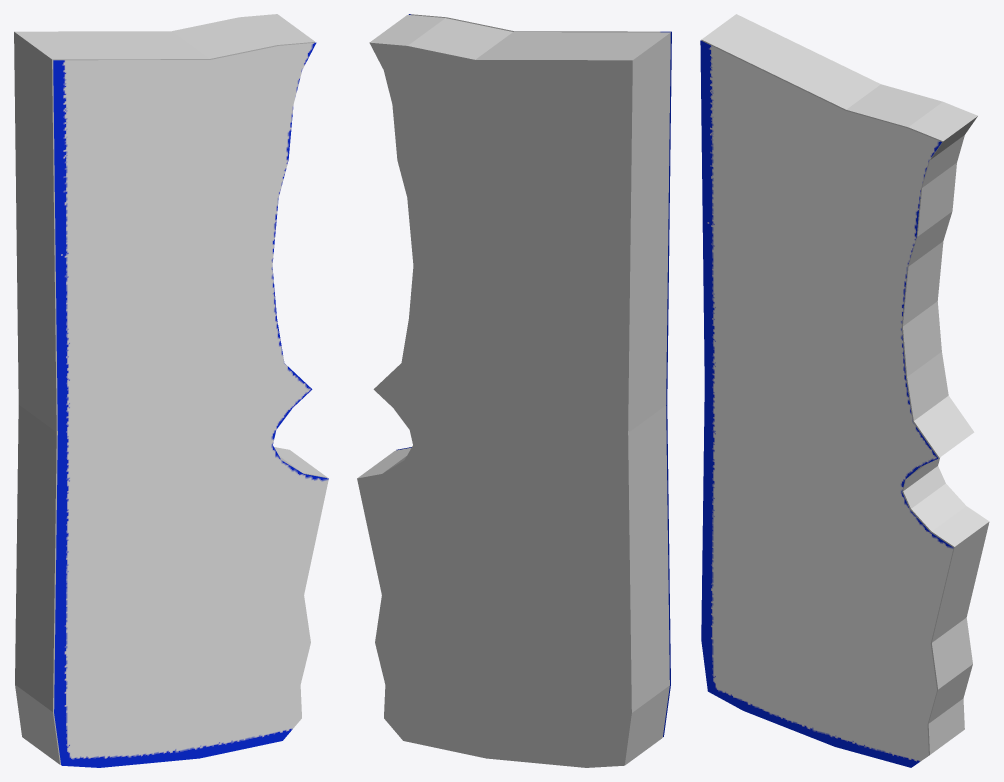
3 views of the same model, side by side, from view 1: azimuth 30°, elevation 25°; view 2: azimuth 150°, elevation 25°; view 3: azimuth 330°, elevation 25° (orthographic). The views are drawn at different scales.
Parts seen in each view (by area): view 1: Out_2_1, Out_2_0; view 2: Out_2_0, Out_2_1; view 3: Out_2_1, Out_2_0.
Boxes of the visible parts, x1=… form: Out_2_1: x1=53, y1=42, x2=328, y2=767; Out_2_0: x1=14, y1=14, x2=327, y2=764; Out_2_0: x1=357, y1=15, x2=670, y2=767; Out_2_1: x1=396, y1=14, x2=671, y2=736; Out_2_1: x1=700, y1=40, x2=953, y2=767; Out_2_0: x1=701, y1=14, x2=989, y2=755.
Bounding box in the file's own units: 2.09 × 5.34 × 0.515.
Materials: 2 (1 with a texture image).
